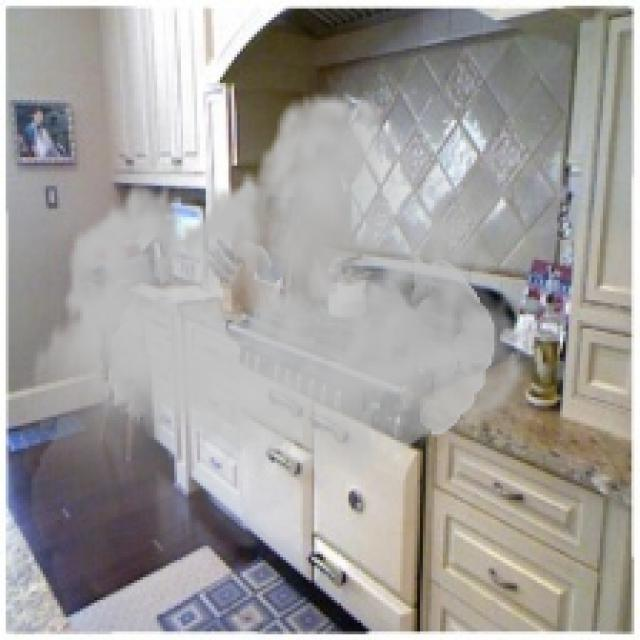Smoke: (20, 72, 569, 638)
